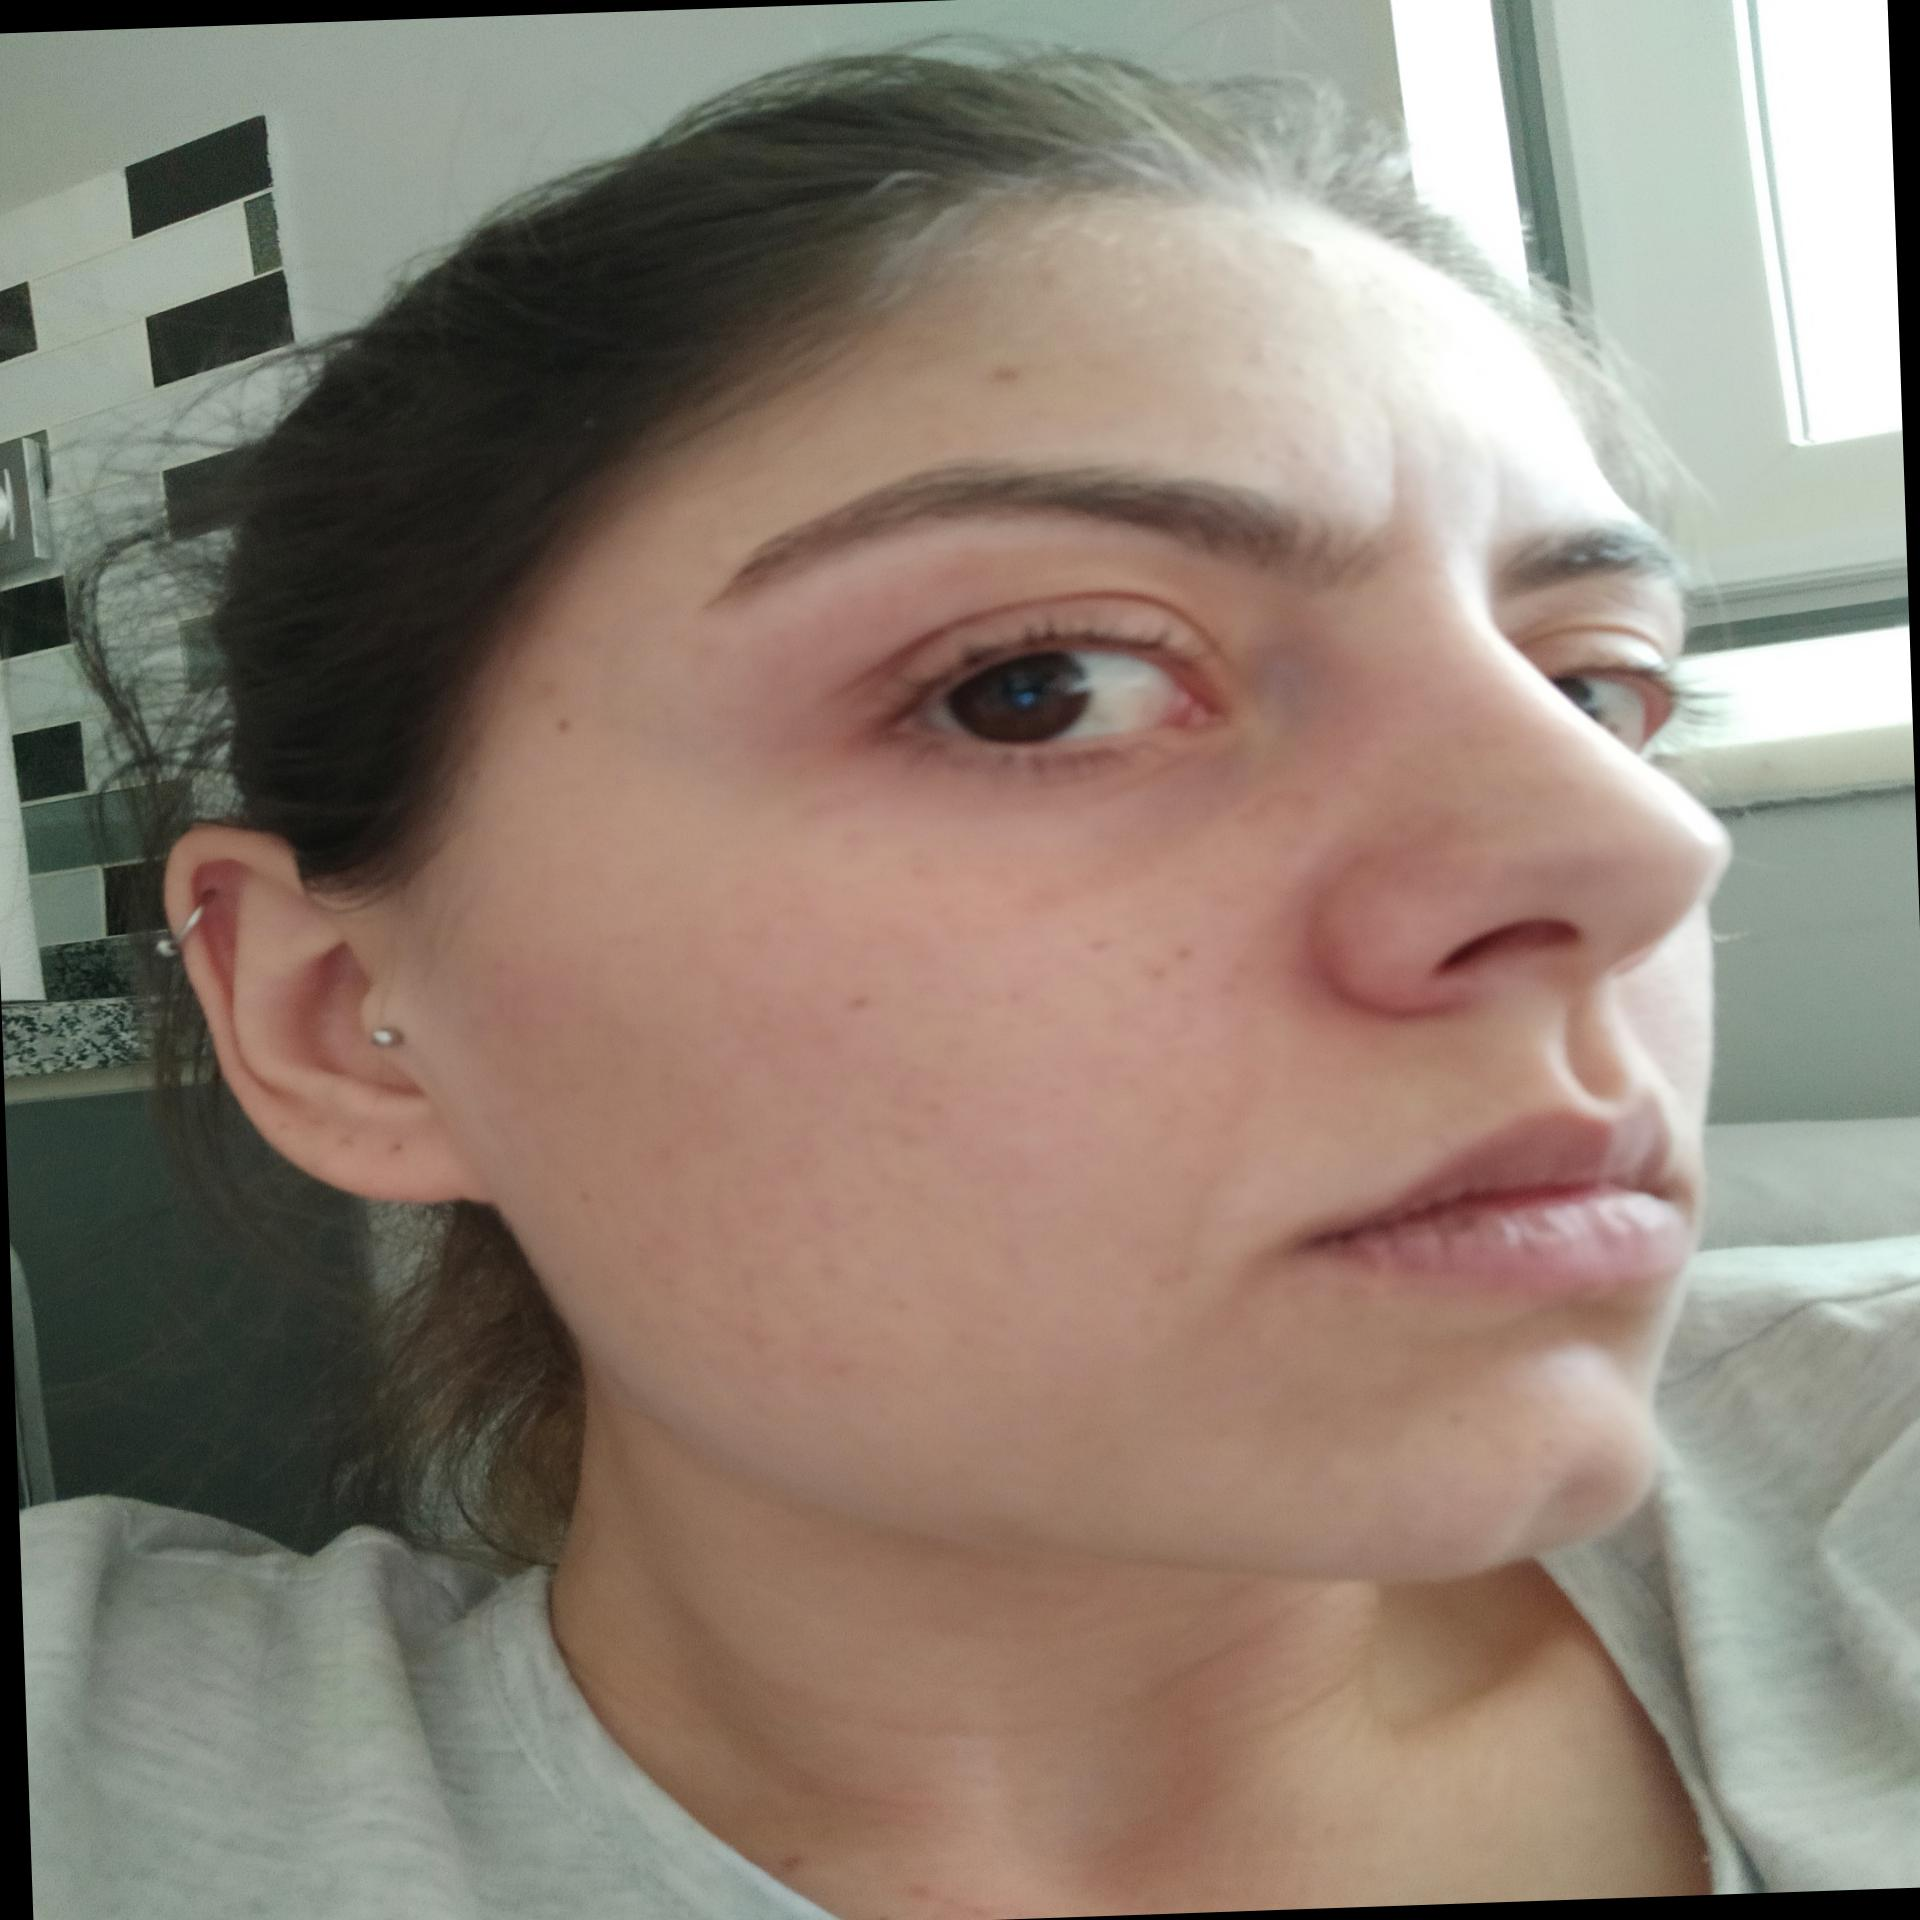Acne: (985, 348, 1036, 392), (1289, 227, 1331, 269)
Englarged Pores: (702, 1167, 867, 1380)
Wrinkles: (1141, 1104, 1257, 1313), (1364, 390, 1421, 556), (1466, 427, 1519, 545)
